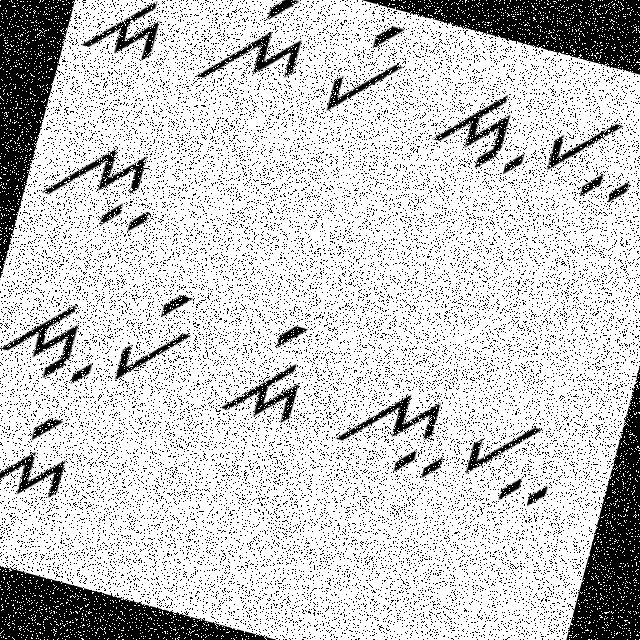dah: (418, 59, 545, 189), (0, 273, 113, 393)
dang: (217, 304, 330, 436), (80, 0, 183, 71)
nah: (24, 123, 166, 245), (323, 368, 461, 490)
nang: (187, 0, 321, 106), (0, 393, 83, 537)
pah: (452, 399, 572, 514), (540, 95, 639, 210)
pang: (312, 10, 416, 134), (108, 276, 204, 394)
